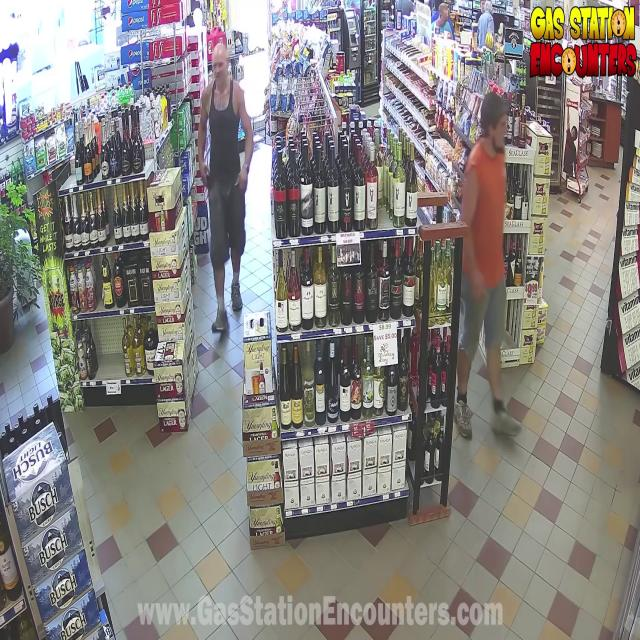normal: (434, 87, 529, 444), (175, 28, 272, 342)
